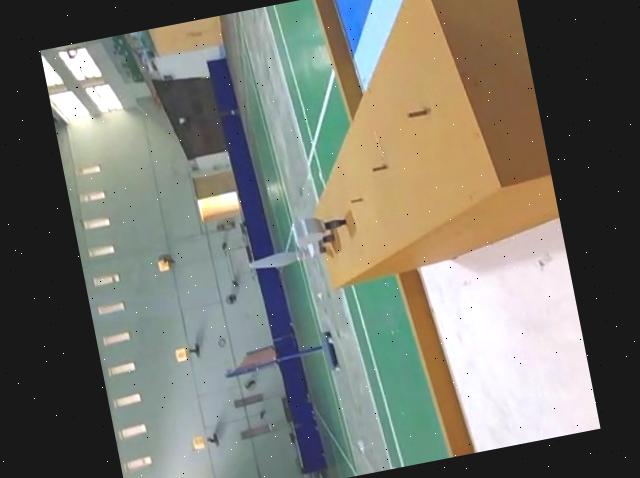Fist: (291, 209, 352, 251)
Sph: (246, 241, 333, 275)
